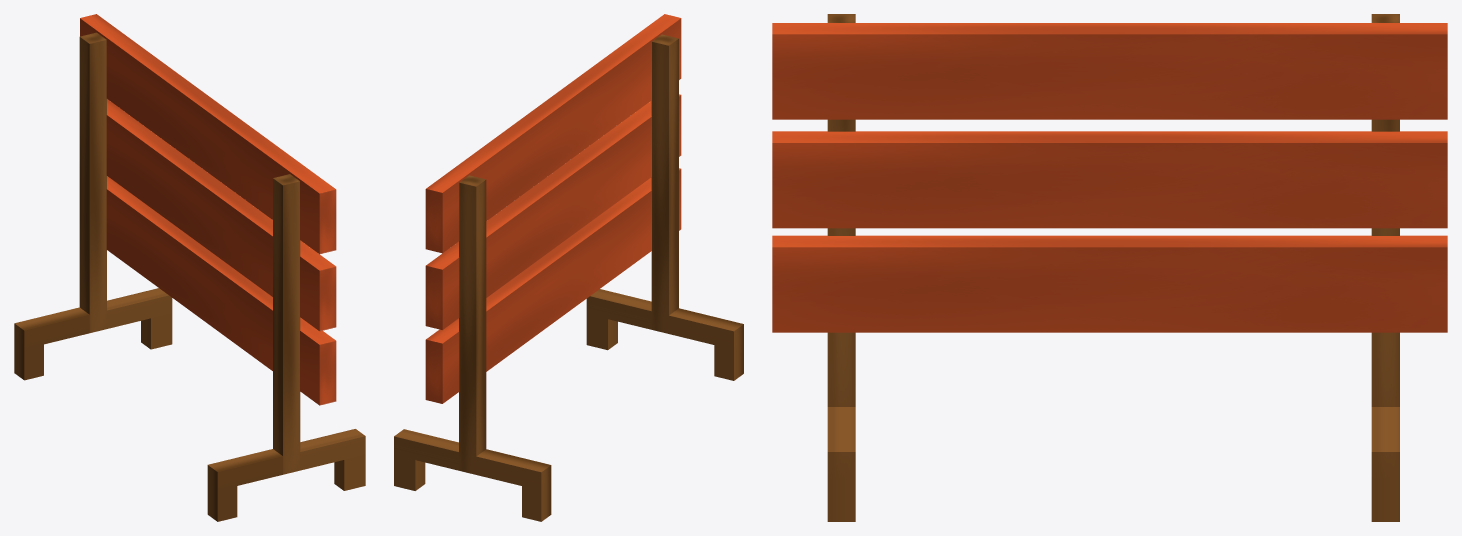
Rendered from barricade2.fbx.
3 renders of one model, left to right at view 1: azimuth 30°, elevation 25°; view 2: azimuth 150°, elevation 25°; view 3: azimuth 270°, elevation 25°, orthographic. The views are drawn at different scales.
Visible parts, largest first — view 1: Cube.003; view 2: Cube.003; view 3: Cube.003.
Part boxes in pixels (box(x1,y1,x2,y2)): Cube.003: box(14, 14, 365, 521); Cube.003: box(394, 14, 743, 521); Cube.003: box(772, 14, 1447, 521).
Bounding box in the file's own units: 389 × 810 × 1091.
Materials: 5 (5 with a texture image).
